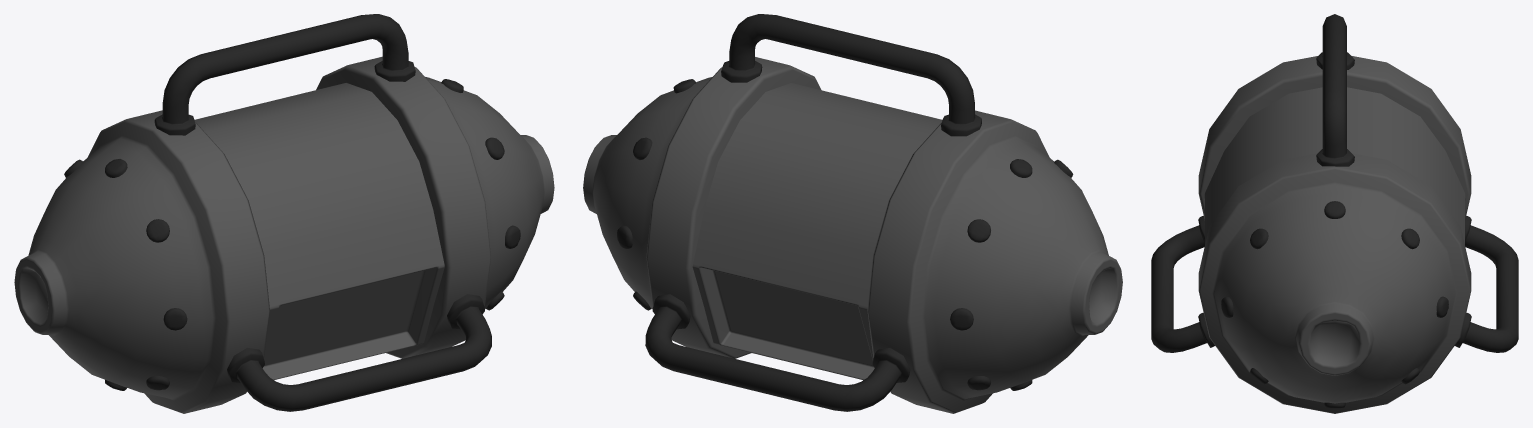
Rendered from _Large_fuel_tank.fbx.
The picture shows the model from 3 angles, left to right: view 1: azimuth 30°, elevation 25°; view 2: azimuth 150°, elevation 25°; view 3: azimuth 270°, elevation 25°; orthographic projection. The views are drawn at different scales.
Parts seen in each view (by area): view 1: Large_fuel_tank; view 2: Large_fuel_tank; view 3: Large_fuel_tank.
Boxes of the visible parts, x1=… form: Large_fuel_tank: x1=14, y1=14, x2=554, y2=413; Large_fuel_tank: x1=583, y1=14, x2=1122, y2=413; Large_fuel_tank: x1=1151, y1=14, x2=1518, y2=413.
Size of the model in its own units: 315 by 202 by 221.
1 material, 1 textured.
